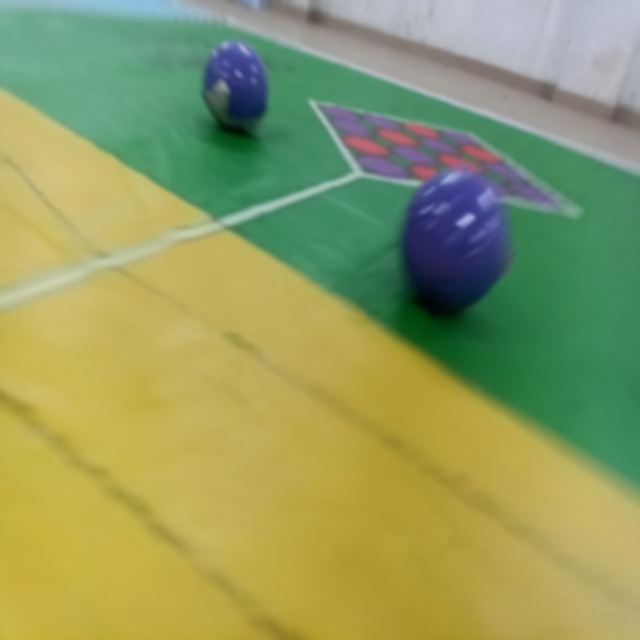purple_ball: (396, 161, 520, 325), (202, 39, 271, 141)
